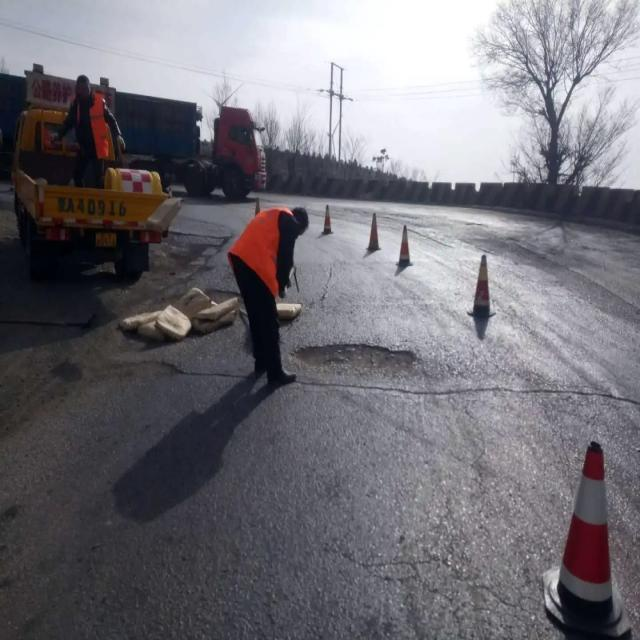Pothole: (294, 343, 420, 378)
